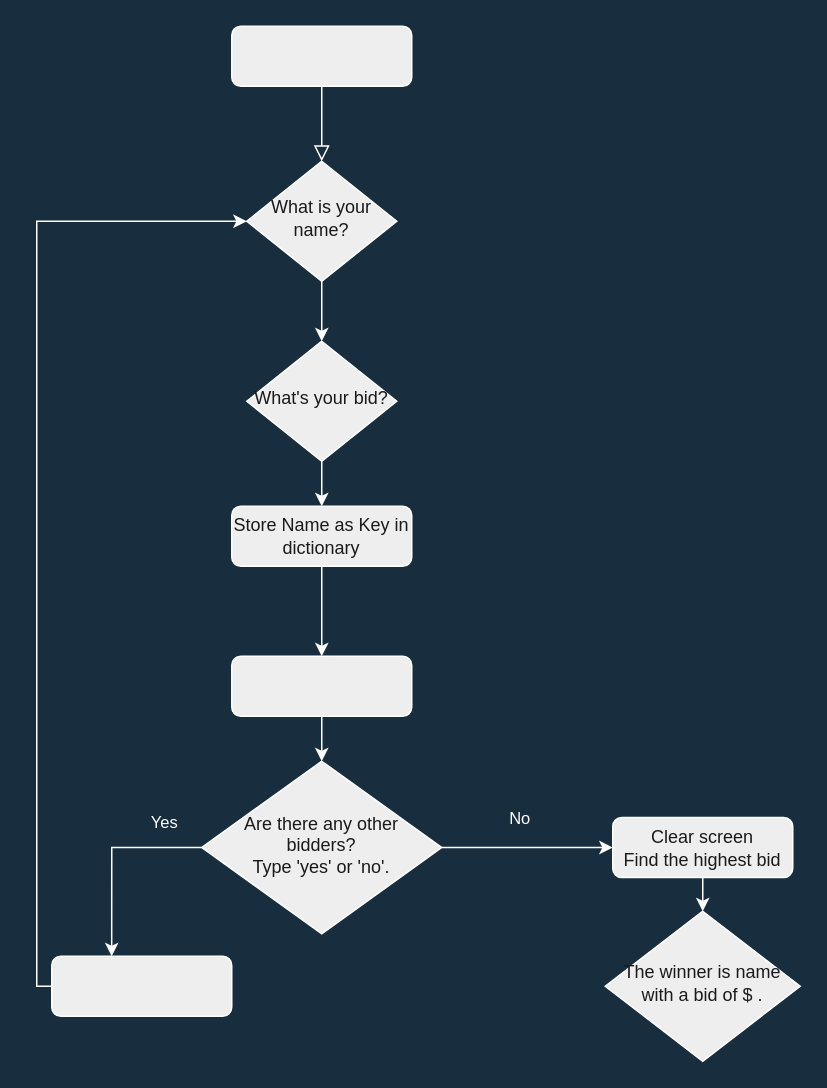
Image size: 827x1088. Some labels were removed from this diagram. Here are the shapes that lost their labels. From the top down, the box of each, then its label:
(230, 25, 412, 86): Start Print Logo
(230, 655, 412, 716): Store bid as Value for Name Key
(50, 955, 232, 1016): Clear screen
